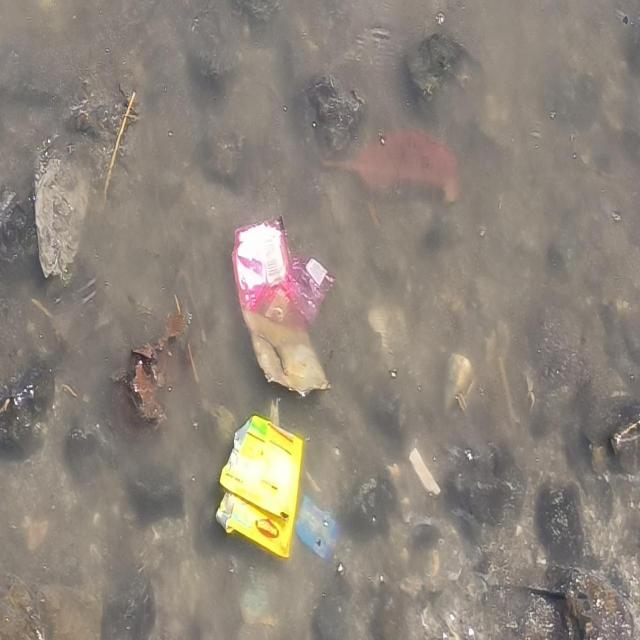plastic_waste: (234, 216, 335, 394), (216, 417, 305, 562), (297, 493, 339, 563)
